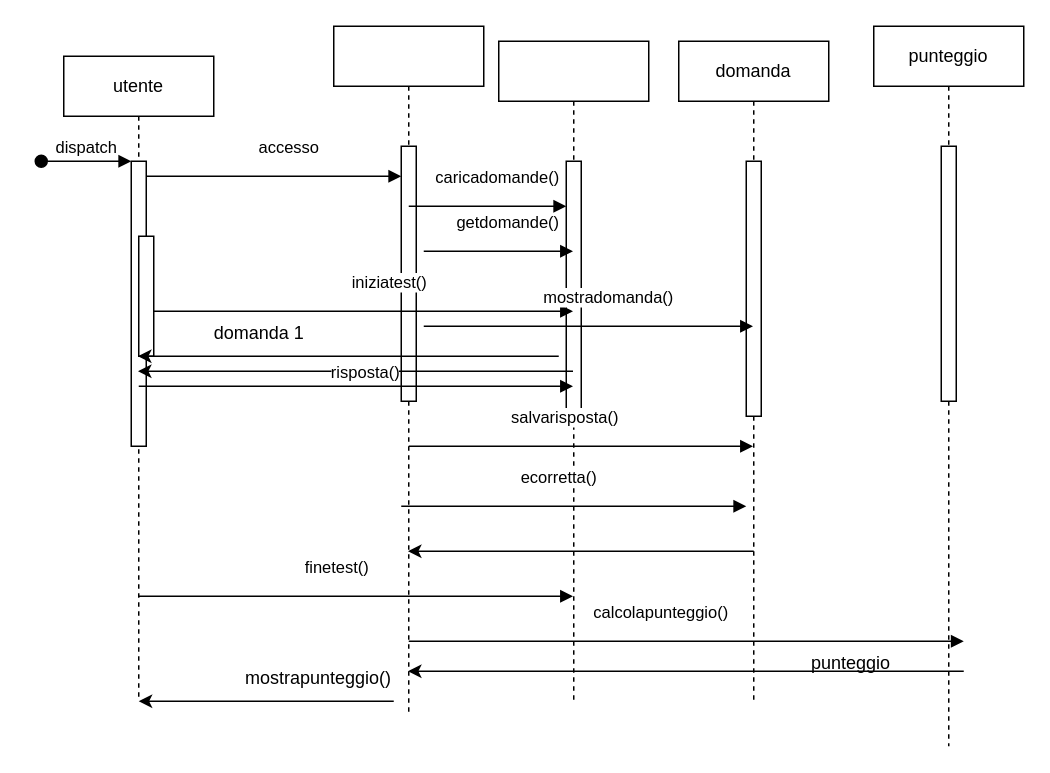
This 1050x773 diagram has some shape labels left out. The shapes that lost their labels are listed below. From the top down, each one's box as (x1, y1, x2, y2) in pixels, then its label:
(332, 25, 484, 716): sistema
(497, 40, 649, 701): test
